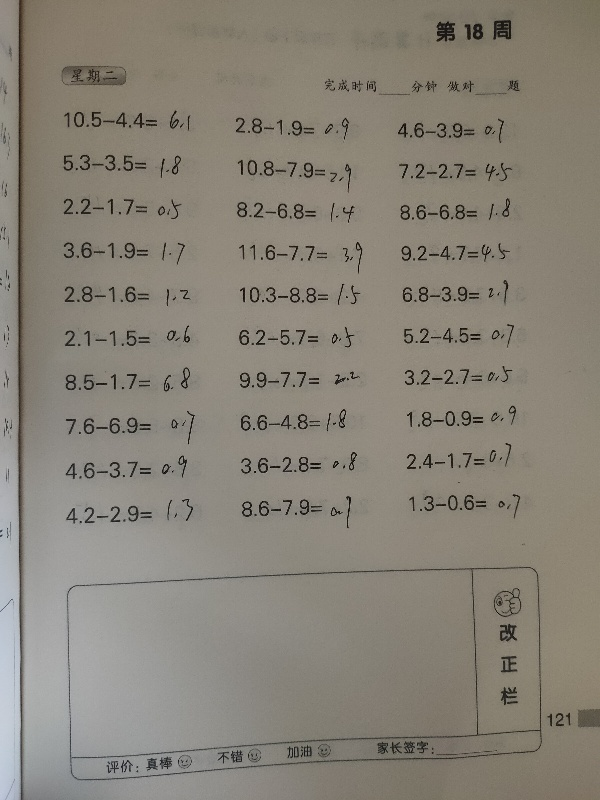equation: (57, 495, 207, 540), (401, 483, 540, 529), (393, 357, 525, 400), (225, 147, 357, 189), (52, 405, 209, 440), (228, 275, 373, 311), (224, 237, 375, 271), (60, 363, 207, 397), (392, 113, 520, 151), (393, 276, 515, 315), (389, 196, 524, 231), (397, 441, 527, 477), (220, 321, 368, 352), (228, 195, 371, 227), (238, 493, 355, 532), (228, 360, 375, 391), (51, 456, 207, 485), (51, 189, 192, 221), (57, 235, 195, 267), (395, 153, 515, 189), (397, 239, 529, 271), (396, 321, 524, 352), (59, 151, 185, 181), (401, 401, 533, 429), (59, 105, 193, 132), (231, 114, 352, 143), (60, 282, 193, 308), (61, 324, 193, 350), (237, 449, 360, 476), (236, 408, 351, 436)
